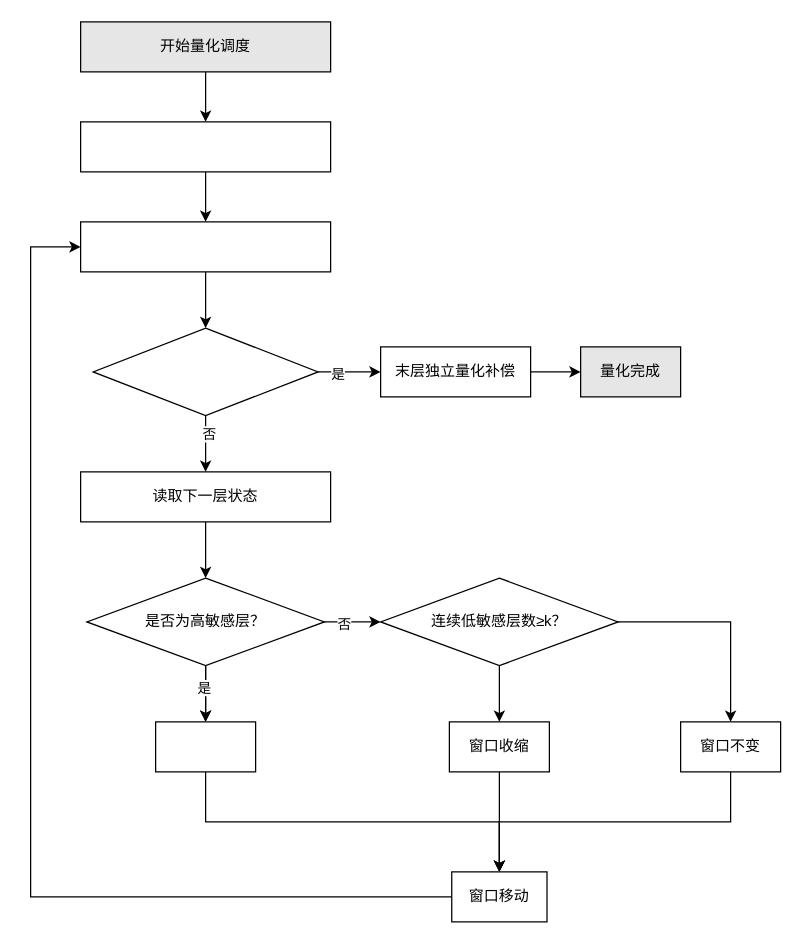
Image size: 803x944. Some labels were removed from this diagram. Each missing label, with the centre of its shape:
"初始化窗口参数" goes at point (205, 146).
"是否完成全层量化" goes at point (205, 371).
"窗口扩展" goes at point (205, 746).
"读执行当前窗口量化" goes at point (205, 246).
